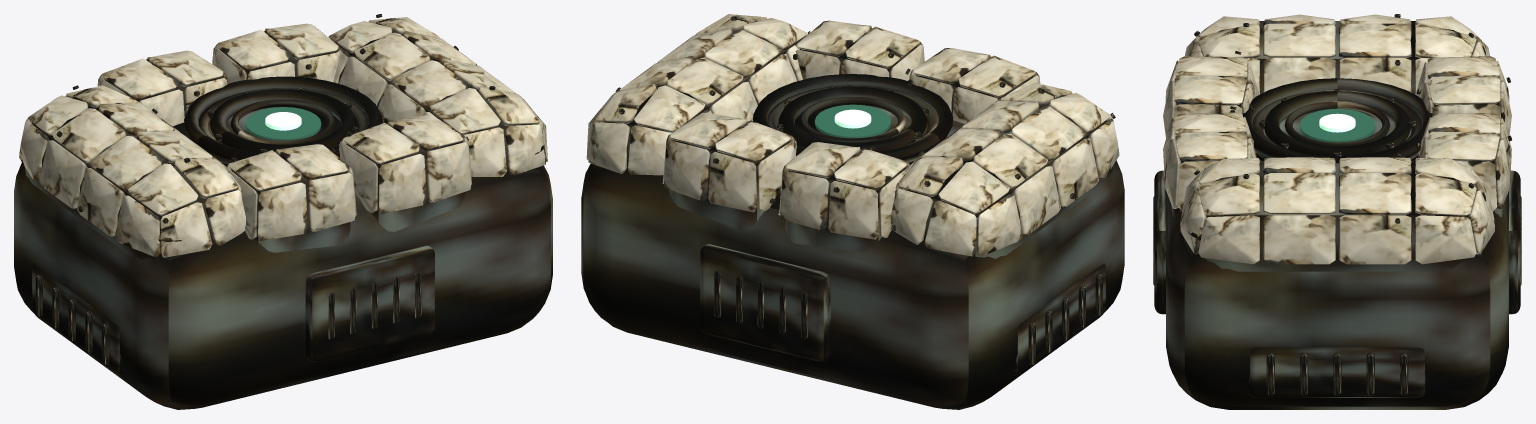
The model's file is body-demolition-astra3-v3.glb.
The picture shows the model from 3 angles, left to right: view 1: azimuth 30°, elevation 25°; view 2: azimuth 150°, elevation 25°; view 3: azimuth 270°, elevation 25°; orthographic projection.
Visible parts, largest first — view 1: demolition-detail-ceramic, demolition-steel, demolition-detail-metal, demolition-detail-brass, demolition-detail-glass, demolition-detail-light; view 2: demolition-detail-ceramic, demolition-steel, demolition-detail-metal, demolition-detail-brass, demolition-detail-glass, demolition-detail-light; view 3: demolition-detail-ceramic, demolition-steel, demolition-detail-metal, demolition-detail-brass, demolition-detail-glass, demolition-detail-light.
Boxes of the visible parts, box(x1,y1,x2,y2) form: demolition-detail-ceramic: box(19, 17, 547, 257); demolition-steel: box(14, 122, 552, 409); demolition-detail-metal: box(25, 23, 530, 375); demolition-detail-brass: box(35, 14, 544, 365); demolition-detail-glass: box(245, 107, 321, 140); demolition-detail-light: box(265, 112, 301, 130); demolition-detail-ceramic: box(586, 14, 1119, 256); demolition-steel: box(581, 120, 1124, 409); demolition-detail-metal: box(599, 20, 1113, 375); demolition-detail-brass: box(615, 16, 1115, 365); demolition-detail-glass: box(814, 104, 891, 138); demolition-detail-light: box(834, 109, 871, 128); demolition-detail-ceramic: box(1163, 14, 1511, 264); demolition-steel: box(1166, 156, 1508, 409); demolition-detail-metal: box(1154, 21, 1520, 397); demolition-detail-brass: box(1153, 14, 1521, 395); demolition-detail-glass: box(1299, 108, 1375, 142); demolition-detail-light: box(1319, 113, 1355, 132).
Bounding box in the file's own units: 1.49 × 0.8295 × 1.11.
Materials: 6 (4 with a texture image).
